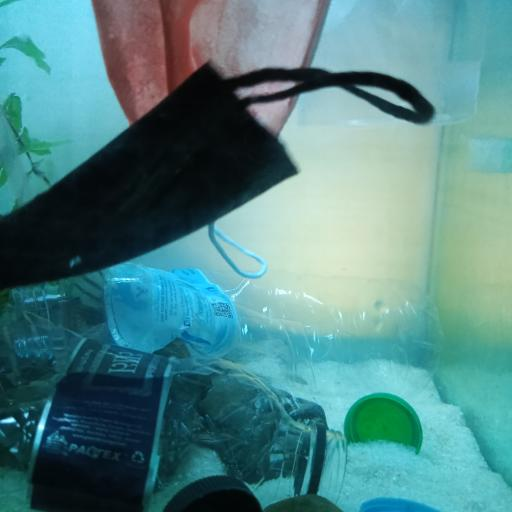bottle_cap: (342, 392, 422, 450), (156, 475, 256, 512)
mask: (0, 63, 434, 292), (96, 0, 333, 283)
plastic_bottle: (0, 291, 340, 501), (0, 251, 449, 401)
